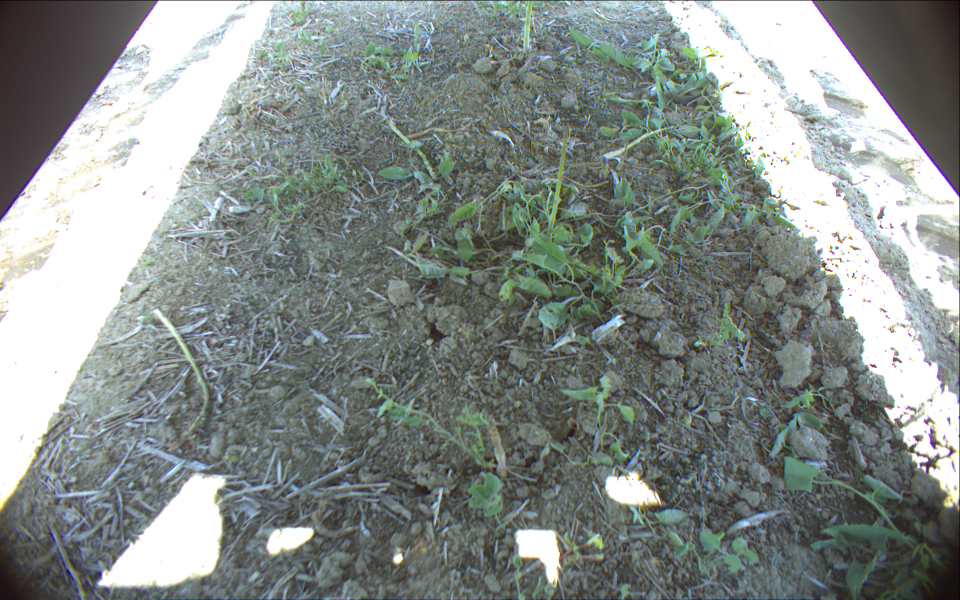aspa: (154, 307, 208, 448), (389, 118, 436, 178), (546, 118, 569, 235), (605, 124, 676, 159), (485, 418, 510, 477), (523, 1, 533, 53)
